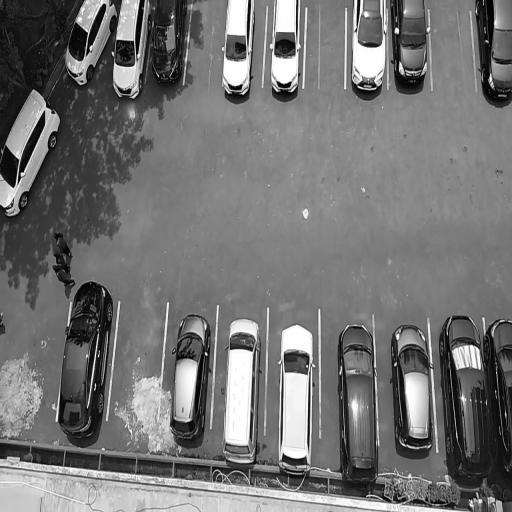Car: (440, 304, 496, 486), (57, 276, 111, 444), (1, 78, 62, 216), (335, 315, 380, 484), (221, 314, 263, 469), (387, 320, 432, 456), (277, 320, 315, 479), (168, 309, 212, 442), (487, 306, 512, 494), (62, 0, 113, 87), (350, 0, 389, 104), (111, 0, 149, 106), (475, 0, 512, 105), (390, 0, 431, 93), (267, 0, 304, 100), (223, 0, 256, 104), (148, 0, 183, 90)
Space Available: (120, 281, 157, 444), (306, 0, 344, 100), (433, 0, 469, 99), (192, 0, 222, 93)
